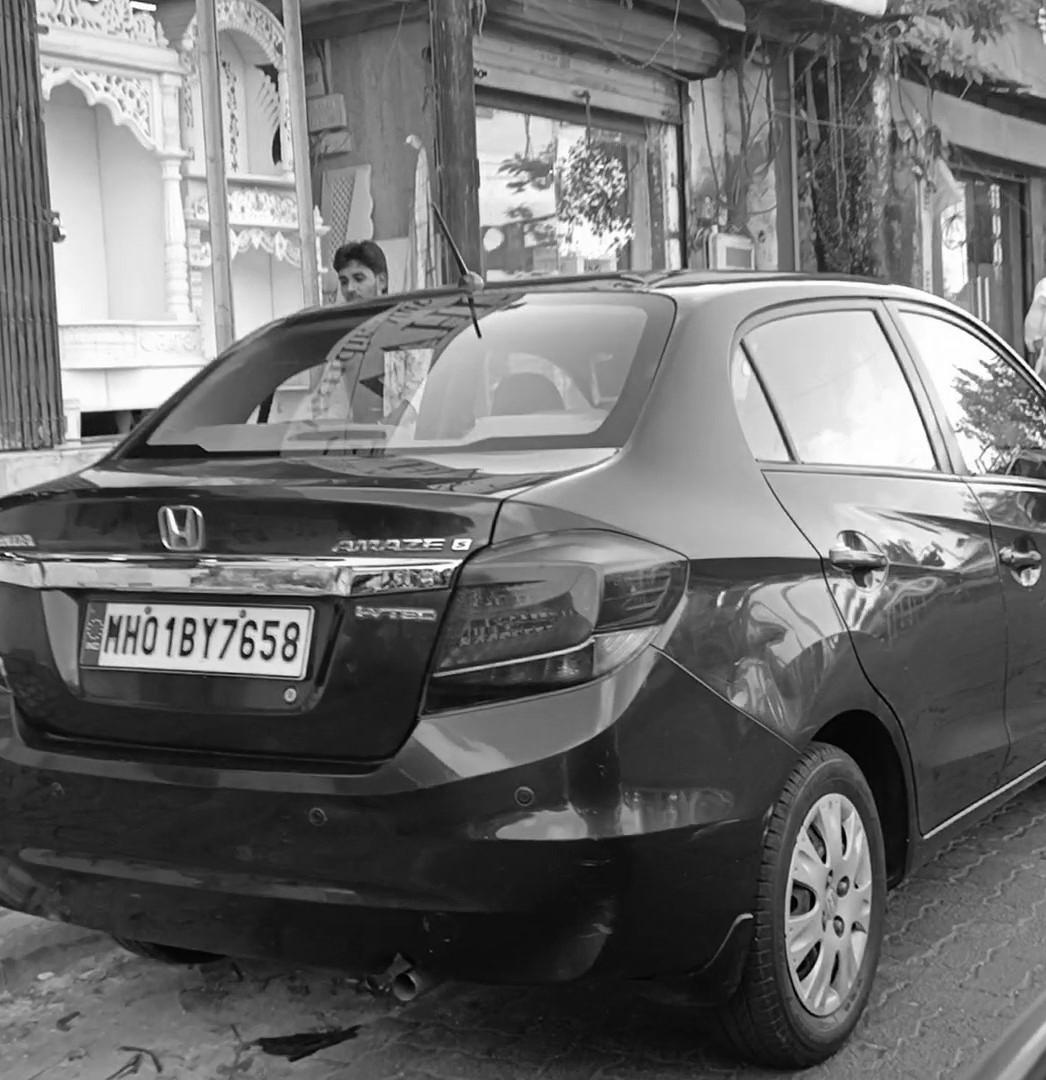number_plate: (81, 601, 319, 679)
